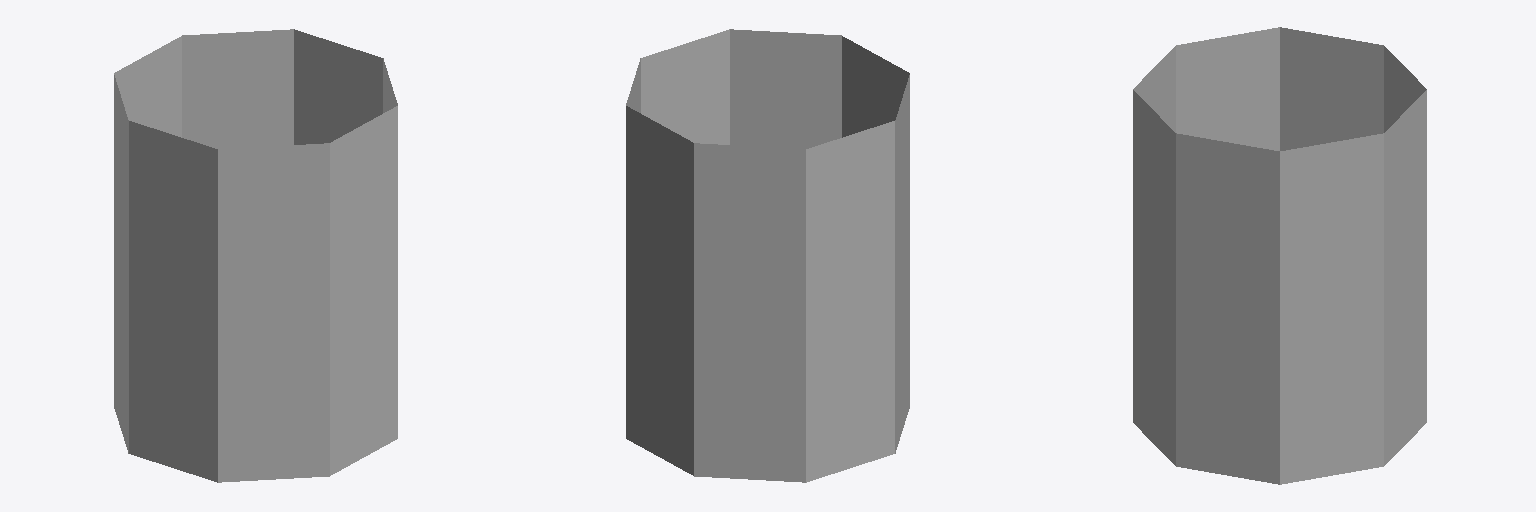
The model's file is ss_pipe_straight_1f.obj.
The picture shows the model from 3 angles: view 1: azimuth 30°, elevation 25°; view 2: azimuth 150°, elevation 25°; view 3: azimuth 270°, elevation 25°; orthographic projection.
Parts seen in each view (by area): view 1: ss_pipe_straight_1f_Cylinder.002; view 2: ss_pipe_straight_1f_Cylinder.002; view 3: ss_pipe_straight_1f_Cylinder.002.
Boxes of the visible parts, <box> form: ss_pipe_straight_1f_Cylinder.002: <box>114,29,397,482</box>; ss_pipe_straight_1f_Cylinder.002: <box>626,29,909,482</box>; ss_pipe_straight_1f_Cylinder.002: <box>1133,27,1426,484</box>.
Bounding box in the file's own units: 0.75 × 0.9375 × 0.75.